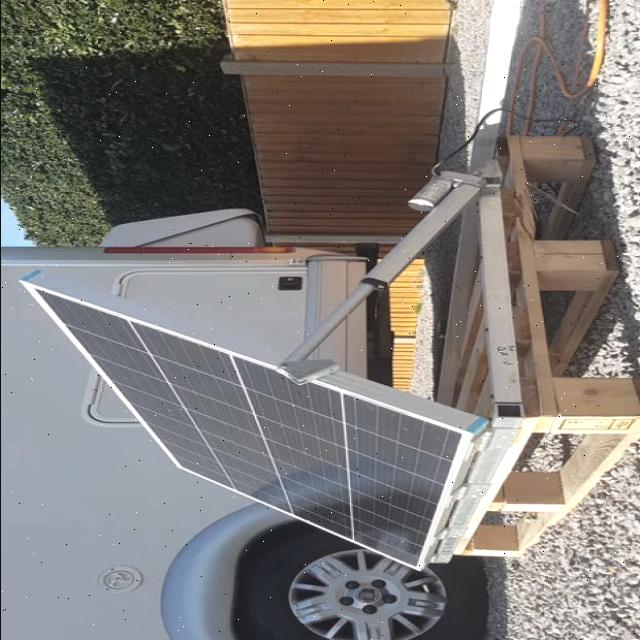Normal Solar Panel: (25, 279, 473, 573)
